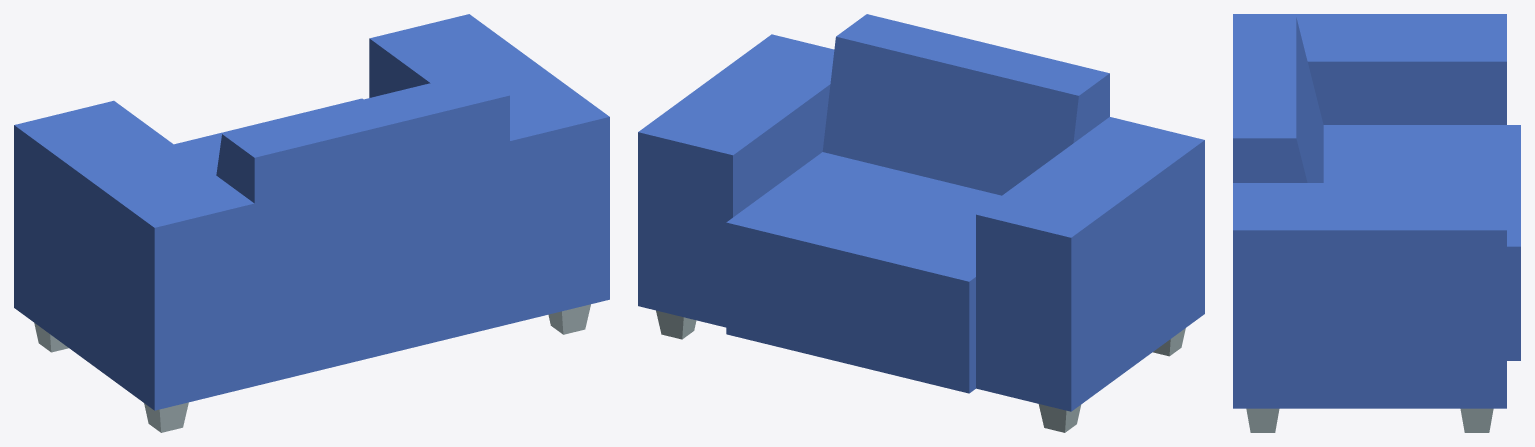
The model's file is Furniture_Lounge_Design_Chair.glb.
3 renders of one model, left to right at view 1: azimuth 30°, elevation 25°; view 2: azimuth 150°, elevation 25°; view 3: azimuth 270°, elevation 25°, orthographic. The views are drawn at different scales.
Visible parts, largest first — view 1: loungeDesignChair; view 2: loungeDesignChair; view 3: loungeDesignChair.
Part boxes in pixels (x1,y1,x2,y2): loungeDesignChair: (14, 14, 609, 432); loungeDesignChair: (638, 14, 1204, 432); loungeDesignChair: (1233, 14, 1520, 432).
Size of the model in its own units: 0.7296 by 0.4 by 0.41.
